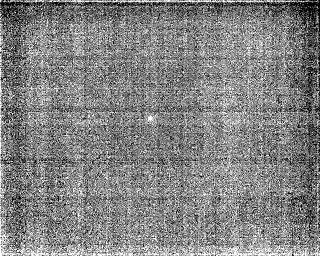BIRD: (145, 112, 157, 126)
